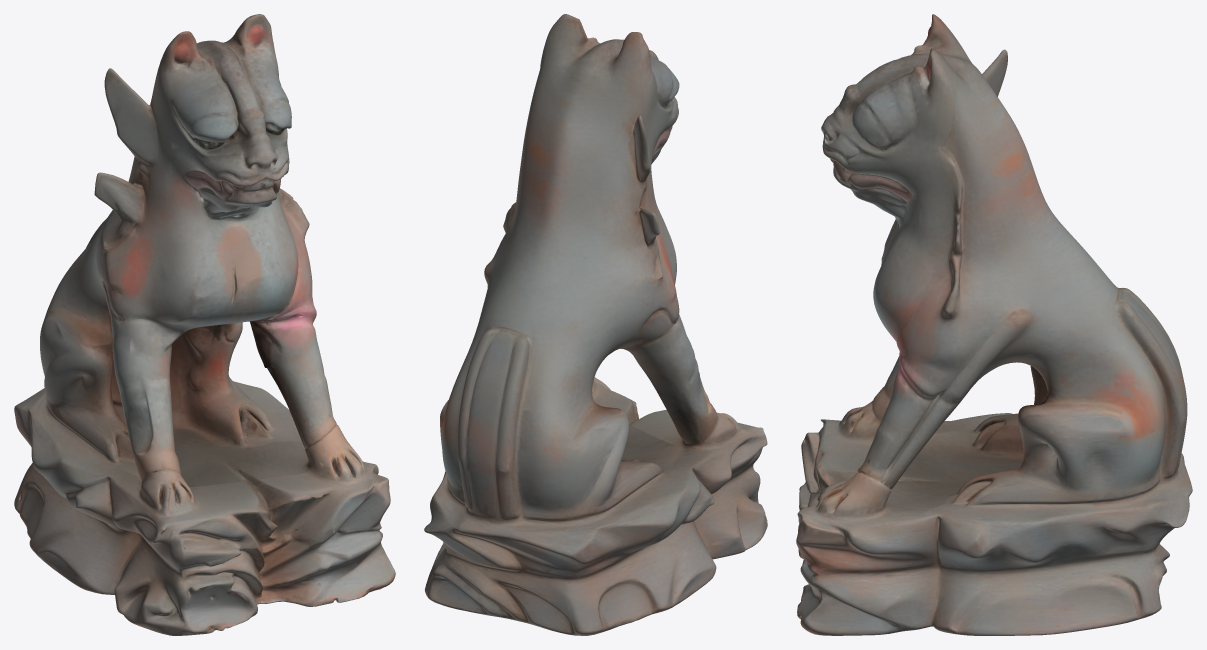
The picture shows the model from 3 angles, left to right: view 1: azimuth 30°, elevation 25°; view 2: azimuth 150°, elevation 25°; view 3: azimuth 270°, elevation 25°; orthographic projection. The views are drawn at different scales.
Parts seen in each view (by area): view 1: node_0; view 2: node_0; view 3: node_0.
Boxes of the visible parts, x1=… form: node_0: x1=14, y1=14, x2=395, y2=635; node_0: x1=424, y1=14, x2=767, y2=635; node_0: x1=796, y1=14, x2=1192, y2=635.
Bounding box in the file's own units: 0.4622 × 0.9617 × 0.6313.
1 material, 1 textured.
